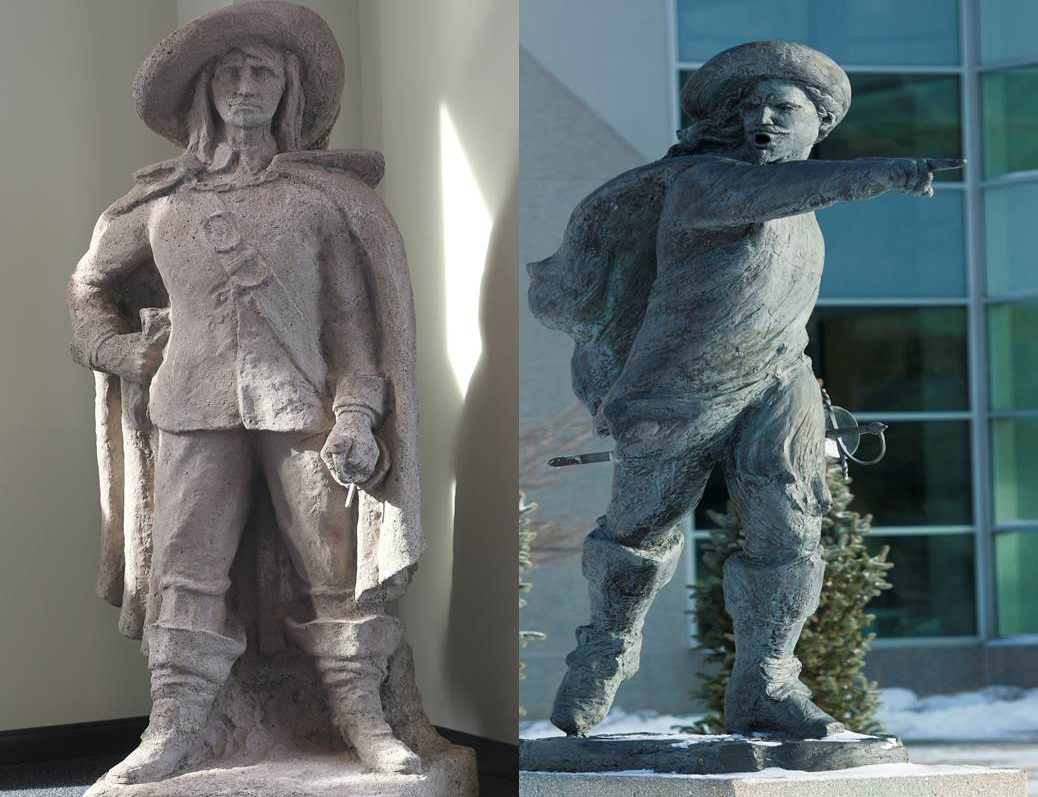person-like: (523, 31, 975, 749), (59, 2, 444, 789)
